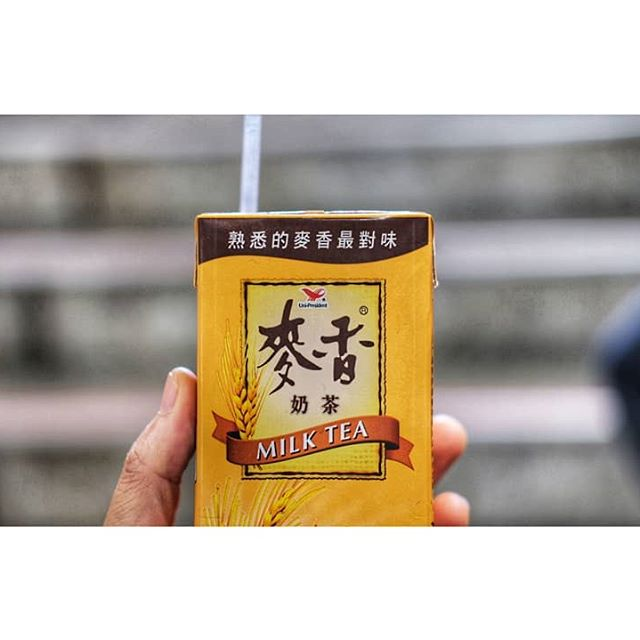milk tea: (199, 215, 435, 528)
